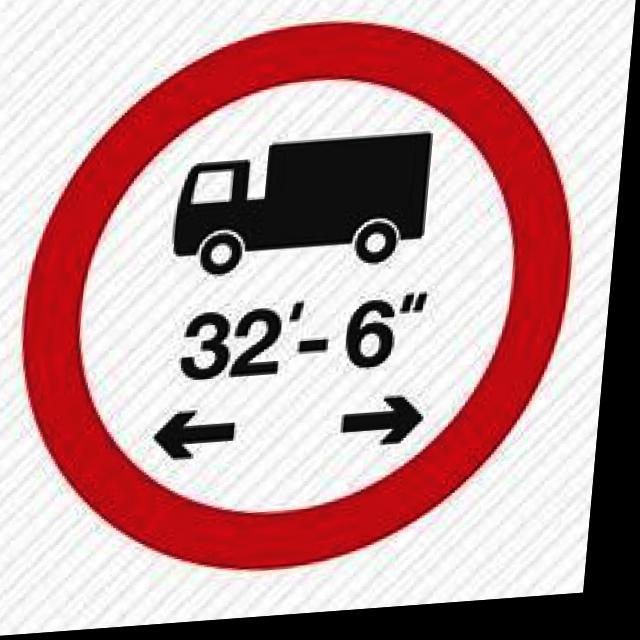LENGTH_LIMIT: (10, 12, 596, 596)
